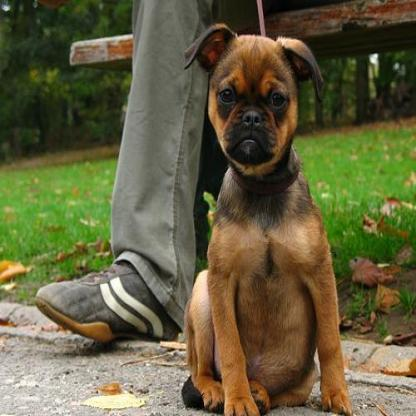Brabancon_griffon: (182, 22, 352, 414)
